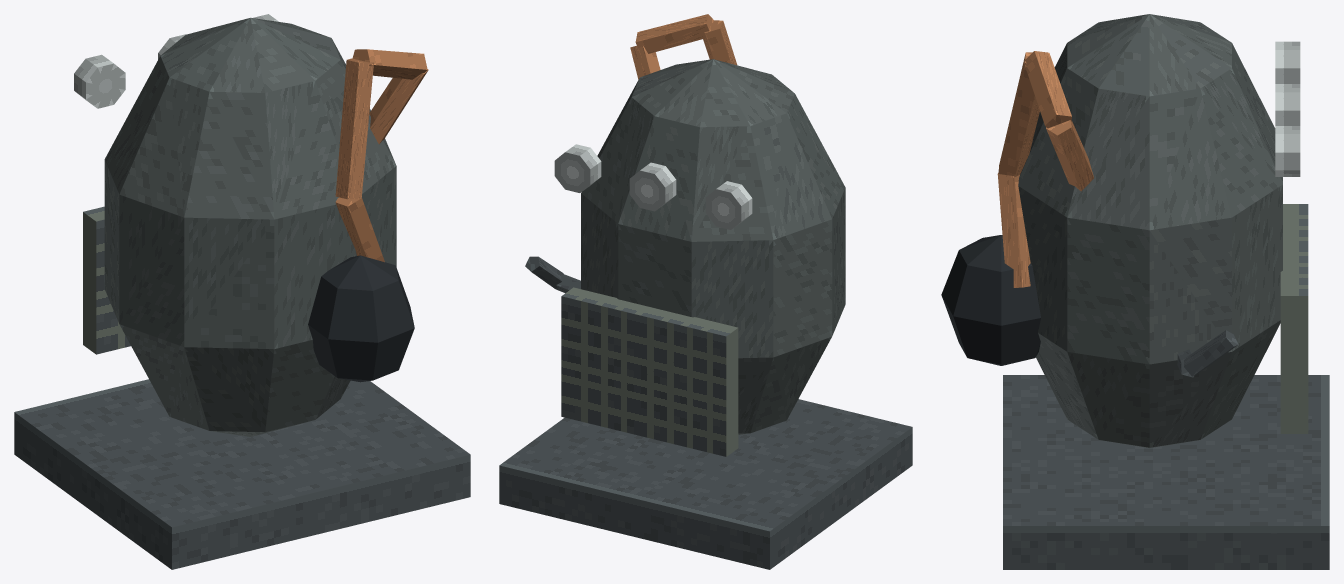
Rendered from f_nl_safehouse_boiler.glb.
The picture shows the model from 3 angles, left to right: view 1: azimuth 30°, elevation 25°; view 2: azimuth 150°, elevation 25°; view 3: azimuth 270°, elevation 25°; orthographic projection. The views are drawn at different scales.
Parts seen in each view (by area): view 1: block_pot-bellied-boiler, block_boiler-anchor-plate, block_bulbous-rear-battery, block_hinged-combustion-cage, block_copper-coiled-return-3, block_unmarked-eye-like-gauge, block_copper-coiled-return-1, block_copper-coiled-return-4, block_copper-coiled-return-2; view 2: block_pot-bellied-boiler, block_boiler-anchor-plate, block_hinged-combustion-cage, block_unmarked-eye-like-gauge (×3), block_copper-coiled-return-2, block_copper-coiled-return-3, block_side-crank-2, block_copper-coiled-return-1; view 3: block_pot-bellied-boiler, block_boiler-anchor-plate, block_bulbous-rear-battery, block_hinged-combustion-cage, block_unmarked-eye-like-gauge (×3), block_copper-coiled-return-3, block_copper-coiled-return-4, block_copper-coiled-return-2, block_copper-coiled-return-1, block_side-crank-2.
Part boxes in pixels (x1=…): block_pot-bellied-boiler: x1=104, y1=17, x2=396, y2=436; block_boiler-anchor-plate: x1=14, y1=379, x2=470, y2=569; block_bulbous-rear-battery: x1=308, y1=255, x2=414, y2=382; block_hinged-combustion-cage: x1=83, y1=206, x2=130, y2=354; block_copper-coiled-return-3: x1=335, y1=58, x2=373, y2=199; block_unmarked-eye-like-gauge: x1=74, y1=54, x2=125, y2=108; block_copper-coiled-return-1: x1=369, y1=69, x2=428, y2=144; block_copper-coiled-return-4: x1=335, y1=197, x2=384, y2=262; block_copper-coiled-return-2: x1=352, y1=49, x2=427, y2=79; block_pot-bellied-boiler: x1=581, y1=59, x2=845, y2=434; block_boiler-anchor-plate: x1=499, y1=399, x2=912, y2=569; block_hinged-combustion-cage: x1=561, y1=287, x2=738, y2=456; block_unmarked-eye-like-gauge (×3): x1=554, y1=144, x2=752, y2=229; block_copper-coiled-return-2: x1=635, y1=14, x2=713, y2=53; block_copper-coiled-return-3: x1=703, y1=20, x2=737, y2=65; block_side-crank-2: x1=525, y1=256, x2=563, y2=289; block_copper-coiled-return-1: x1=630, y1=45, x2=660, y2=79; block_pot-bellied-boiler: x1=1018, y1=14, x2=1282, y2=448; block_boiler-anchor-plate: x1=1003, y1=375, x2=1329, y2=569; block_bulbous-rear-battery: x1=941, y1=235, x2=1040, y2=365; block_hinged-combustion-cage: x1=1280, y1=204, x2=1308, y2=433; block_unmarked-eye-like-gauge (×3): x1=1275, y1=41, x2=1300, y2=176; block_copper-coiled-return-3: x1=998, y1=52, x2=1039, y2=176; block_copper-coiled-return-4: x1=997, y1=172, x2=1030, y2=287; block_copper-coiled-return-2: x1=1023, y1=51, x2=1071, y2=128; block_copper-coiled-return-1: x1=1046, y1=120, x2=1093, y2=191; block_side-crank-2: x1=1184, y1=330, x2=1238, y2=376.
Bounding box in the file's own units: 0.9039 × 1.27 × 0.9273.
1 material, 1 textured.
